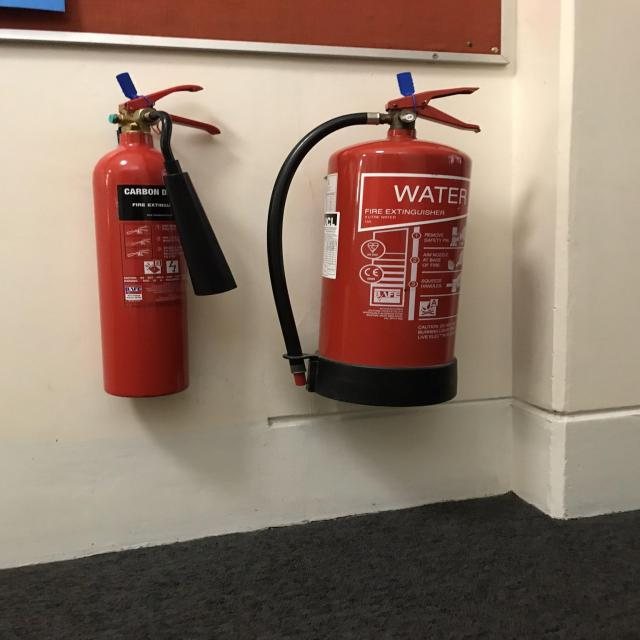fire_extinguisher: (262, 83, 486, 411), (88, 80, 242, 402)
